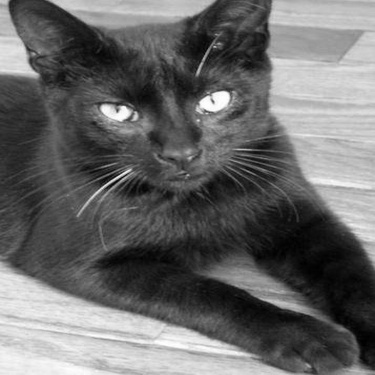cat: (4, 1, 367, 371)
